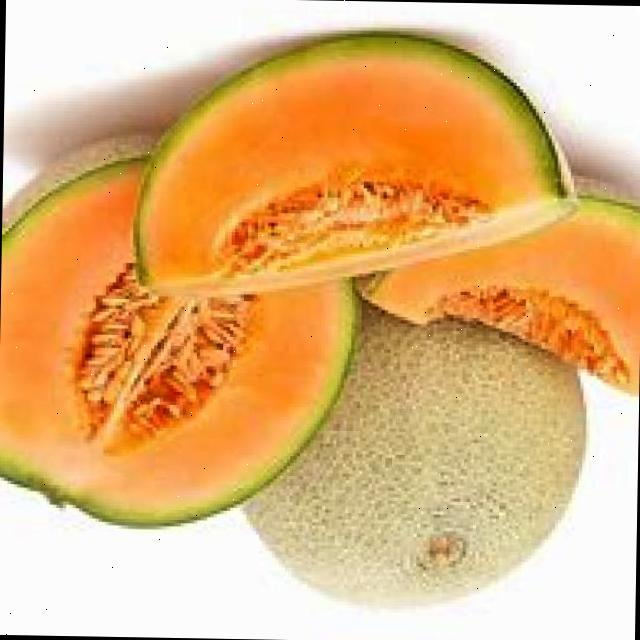Hami Melon: (0, 127, 359, 534), (130, 27, 585, 306), (234, 300, 587, 612)
